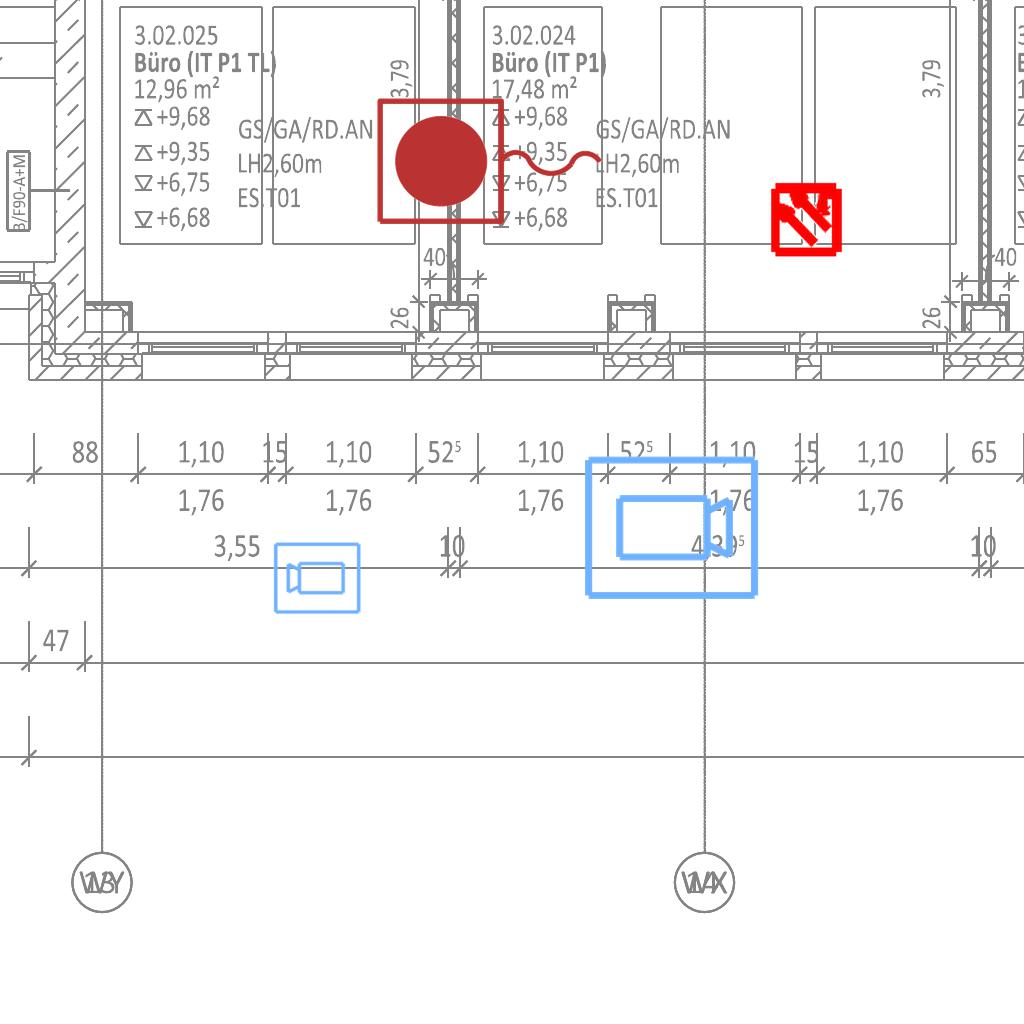KFO_Kamera_mit_Festobjektiv: (580, 452, 762, 606), (272, 539, 363, 616)
OT_Multisensormelder_(Kombination_RMO_WMD): (750, 161, 863, 274)
Zugtaster: (369, 91, 613, 235)
